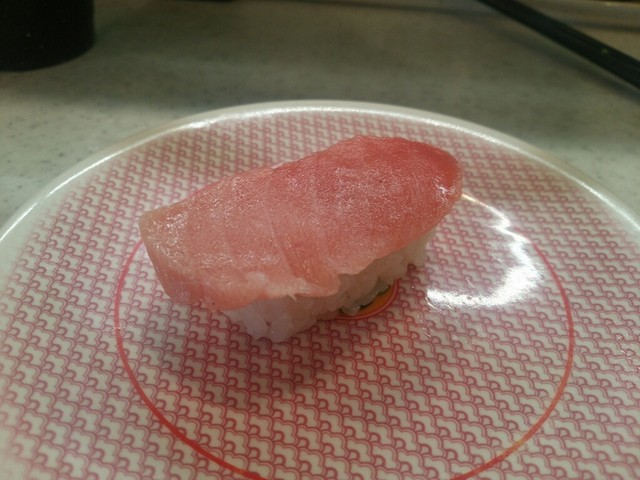medium_fatty_tuna: (139, 132, 461, 343)
